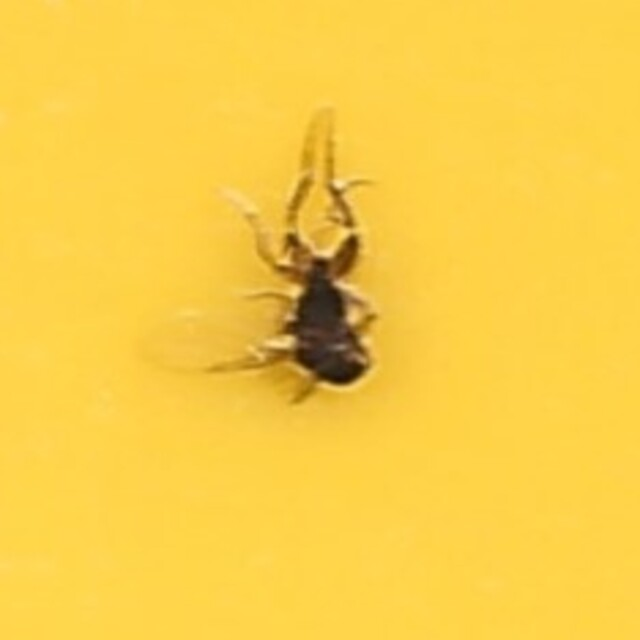Brachycera: (274, 242, 366, 398)
